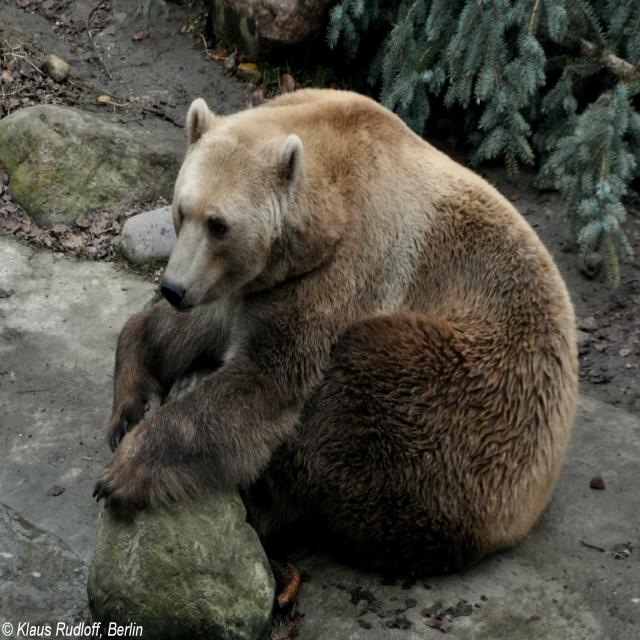Bear: (94, 89, 580, 611)
